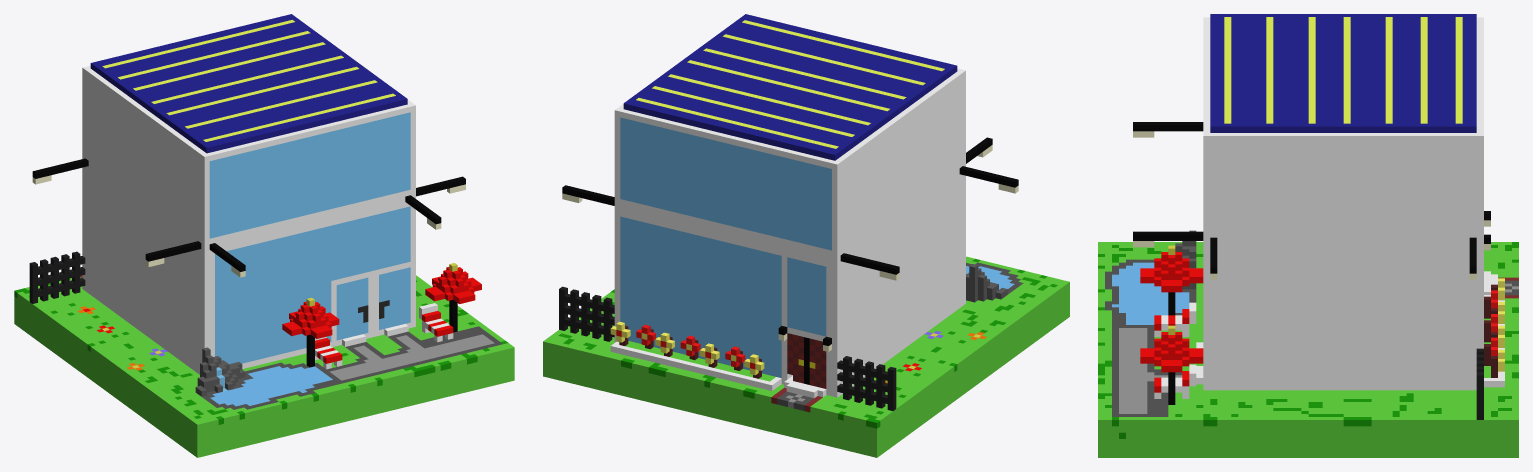
File: house.obj
The picture shows the model from 3 angles, left to right: view 1: azimuth 30°, elevation 25°; view 2: azimuth 150°, elevation 25°; view 3: azimuth 270°, elevation 25°; orthographic projection. The views are drawn at different scales.
Size of the model in its own units: 6 by 4.7 by 6.
Materials: 1 (1 with a texture image).
